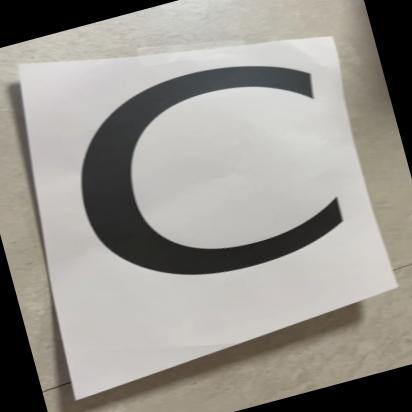seat: (20, 0, 379, 385)
